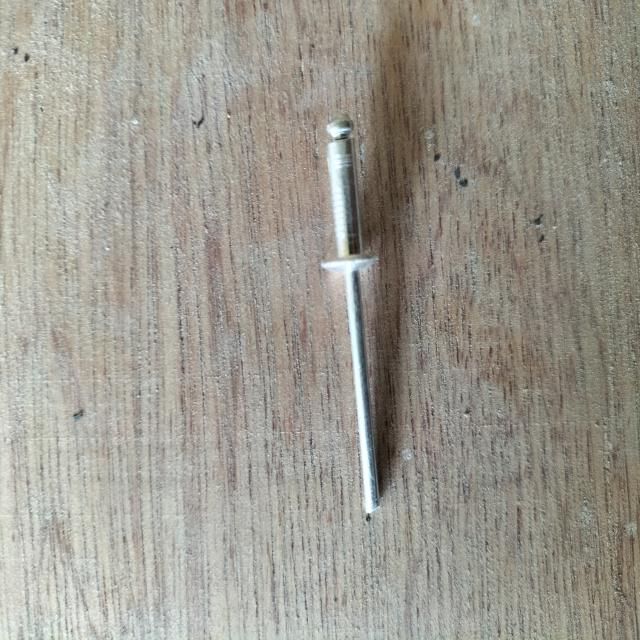rivet: (320, 114, 382, 514)
